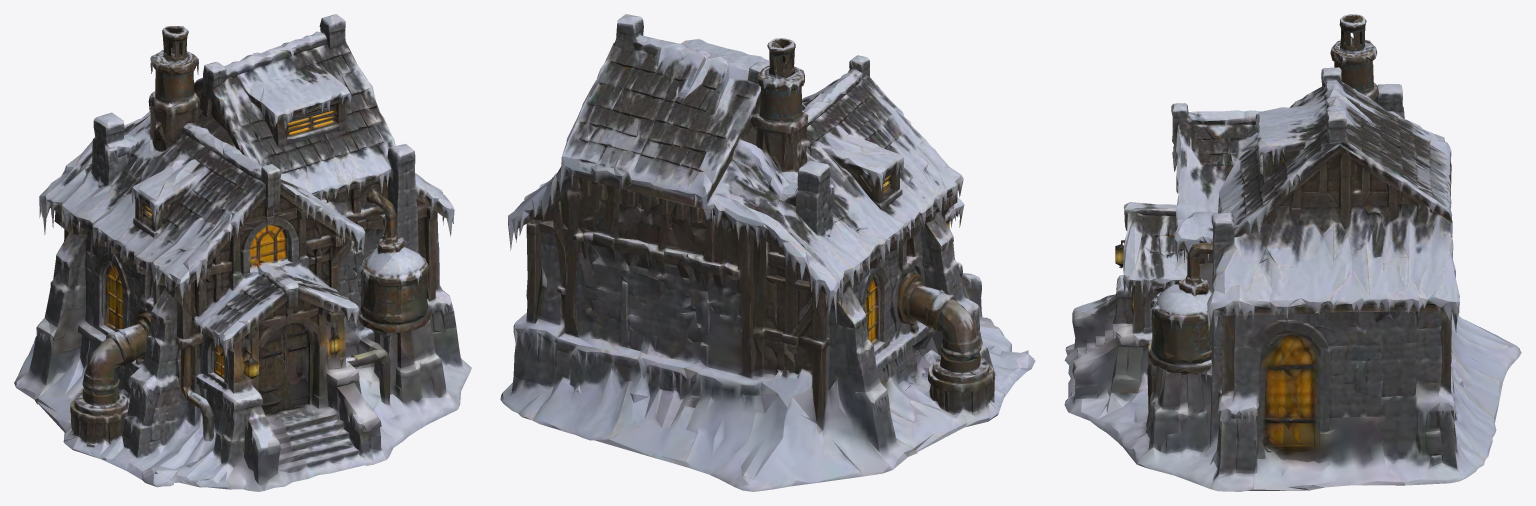
The model's file is home_a.glb.
3 views of the same model, side by side, from view 1: azimuth 30°, elevation 25°; view 2: azimuth 150°, elevation 25°; view 3: azimuth 270°, elevation 25° (orthographic). The views are drawn at different scales.
Parts seen in each view (by area): view 1: Mesh_0; view 2: Mesh_0; view 3: Mesh_0.
Part boxes in pixels (x1=…): Mesh_0: x1=14, y1=14, x2=471, y2=491; Mesh_0: x1=500, y1=14, x2=1035, y2=491; Mesh_0: x1=1064, y1=14, x2=1521, y2=491.
Size of the model in its own units: 1.9 by 1.63 by 1.9.
Materials: 1 (1 with a texture image).
